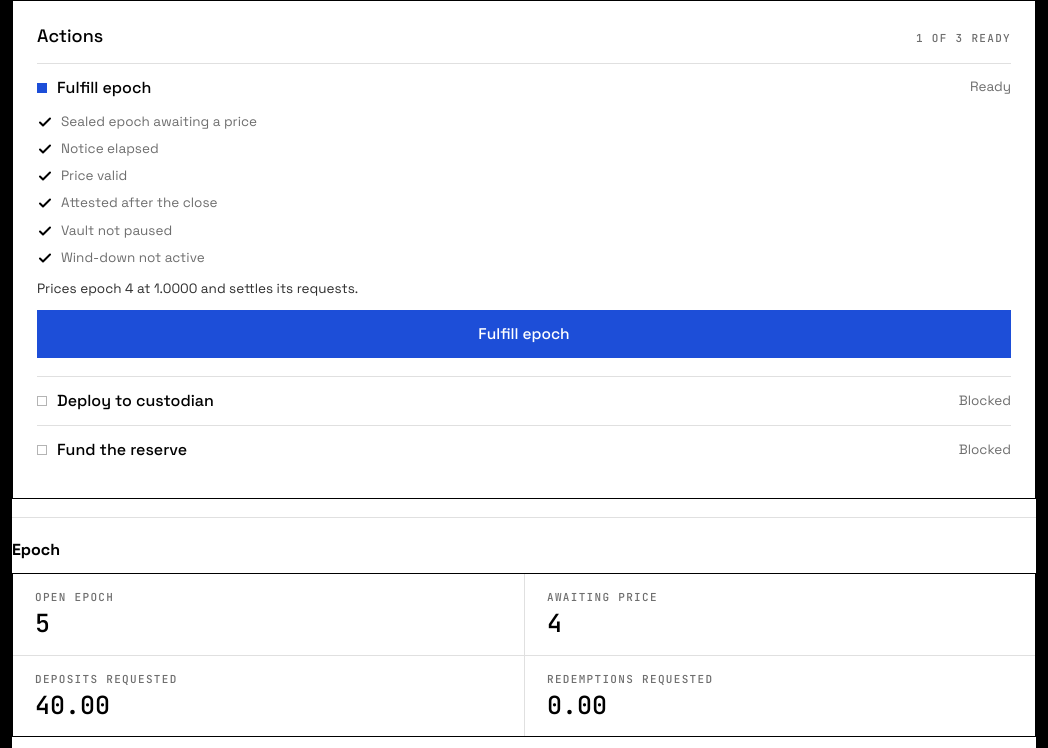
CycleSection › holds the deployment until an amount is typed, then enables it and states the resulting reserve
The image size is (1048, 748).
Step 1. Click the button "Deploy to custodian Blocked" → [135, 401], box x1=37 y1=377 x2=1011 y2=425
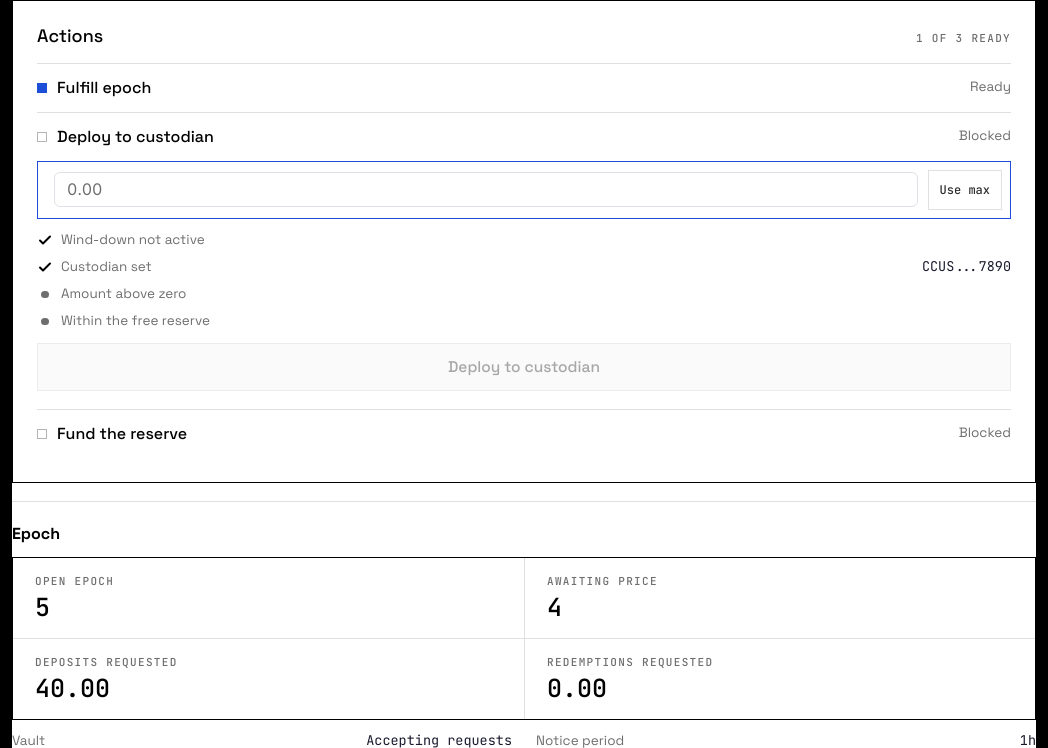
Now the button "Deploy to custodian" is disabled, box x1=37 y1=342 x2=1011 y2=390
Step 2. Type "250" into the field named "Amount to deploy" → [486, 190], box x1=54 y1=172 x2=918 y2=207
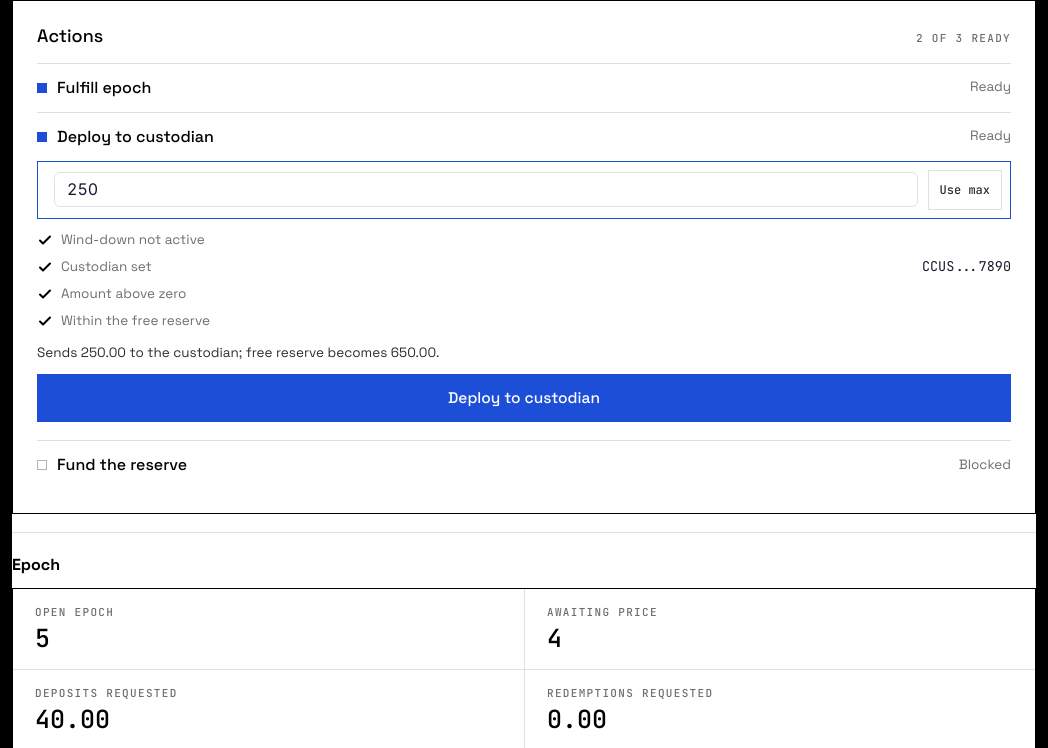
Now the button "Deploy to custodian" is enabled, box x1=37 y1=374 x2=1011 y2=422
Now the text "Sends 250.00 to the custodian; free reserve becomes 650.00." is shown, box x1=37 y1=344 x2=439 y2=360
